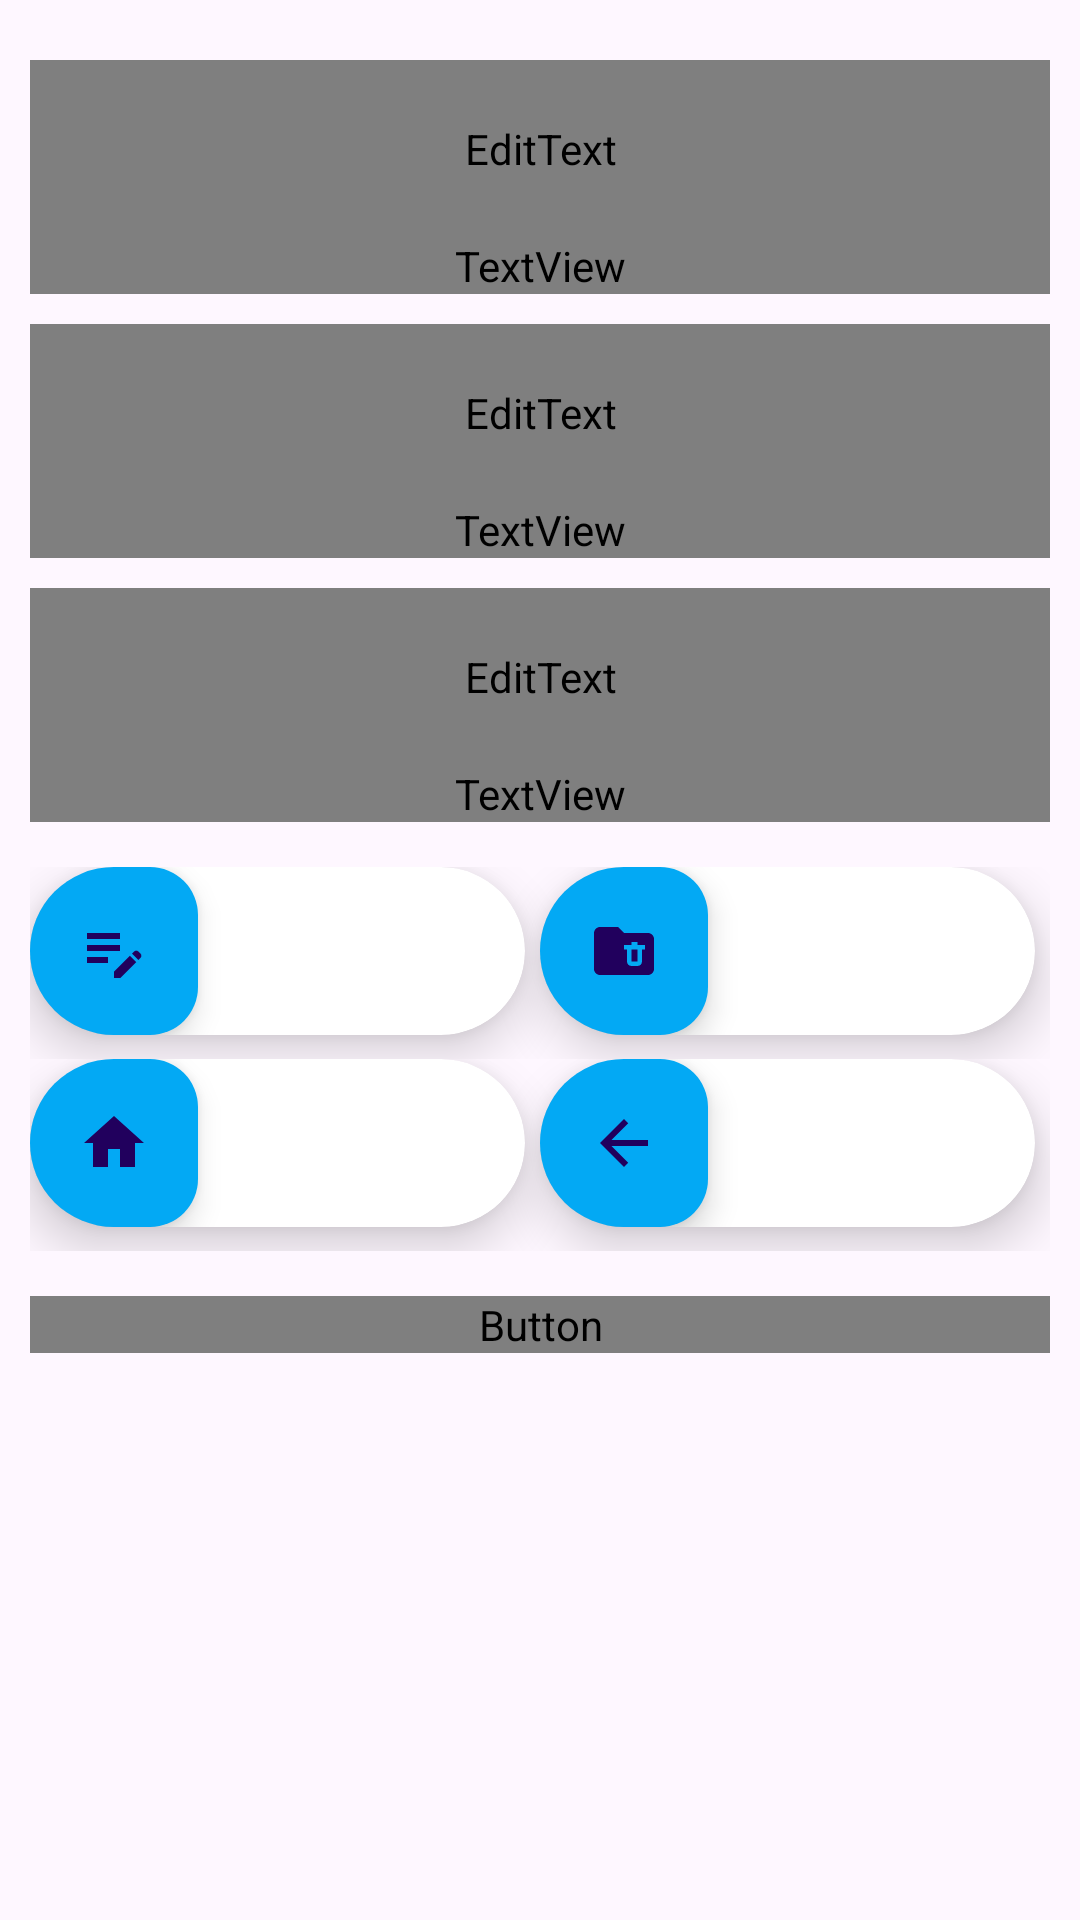

Named icons in this screenshot (1080x1920) and their bounding boxes, bbox(x1, y1, x2, y2):
borrar: bbox(540, 867, 708, 1035)
editar: bbox(30, 867, 198, 1035)
retroceder: bbox(540, 1059, 708, 1227)
